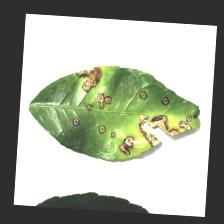canker: (65, 60, 195, 154)
